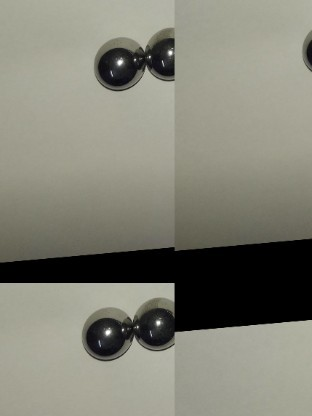ironball: (88, 31, 145, 90), (129, 294, 179, 359), (81, 303, 132, 363), (144, 26, 174, 88)
